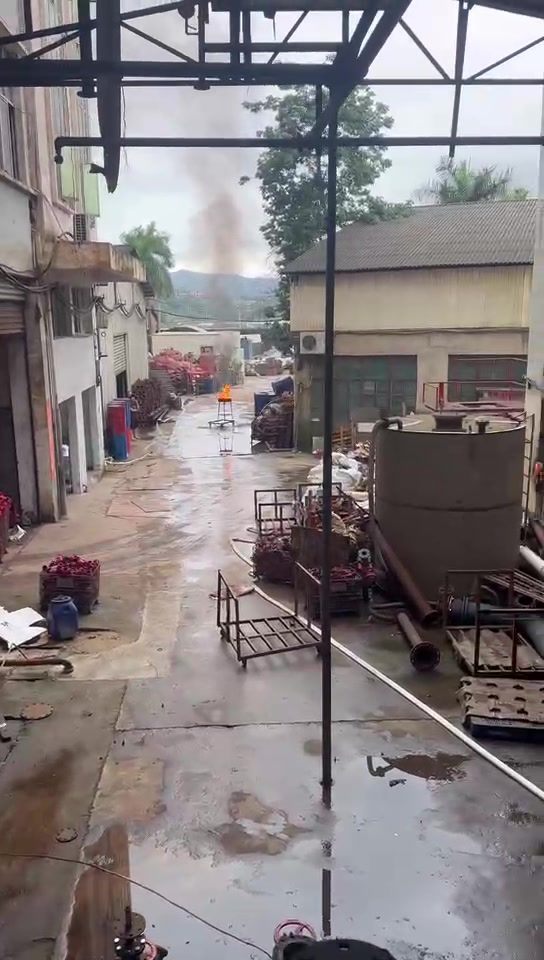fire: (217, 384, 231, 399)
